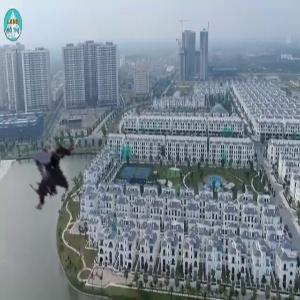drone: (16, 137, 102, 223)
